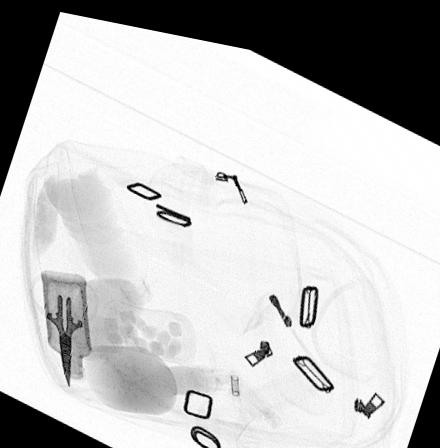Scissors: (27, 267, 98, 387)
